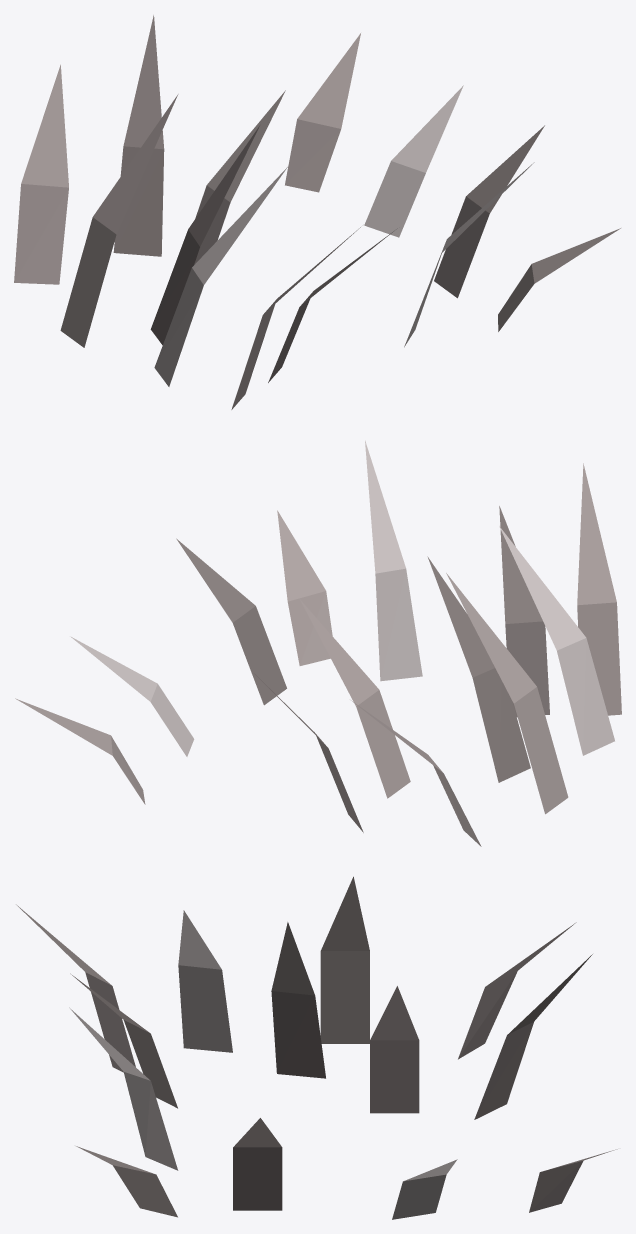
3 renders of one model, top to bottom at view 1: azimuth 30°, elevation 25°; view 2: azimuth 150°, elevation 25°; view 3: azimuth 270°, elevation 25°, orthographic. The views are drawn at different scales.
Bounding box in the file's own units: 97 × 45 × 111.
1 material, 1 textured.
